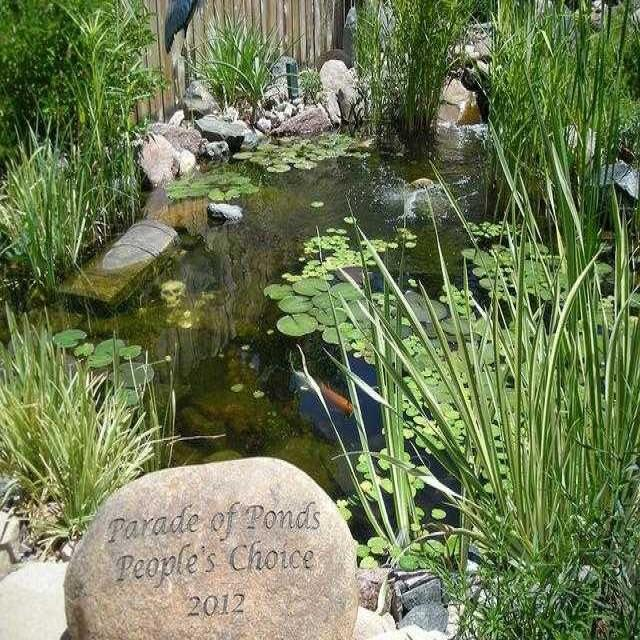Ponds: (1, 50, 640, 600)
